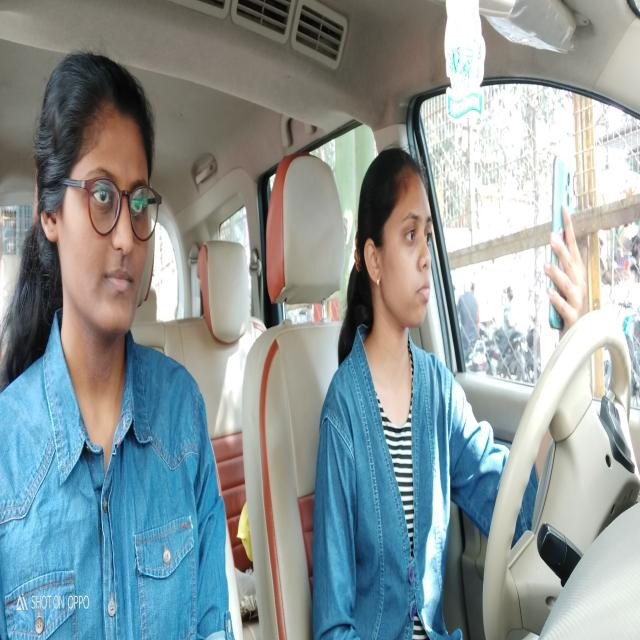mobile: (546, 134, 580, 335)
person: (35, 50, 164, 376), (349, 140, 438, 360)
